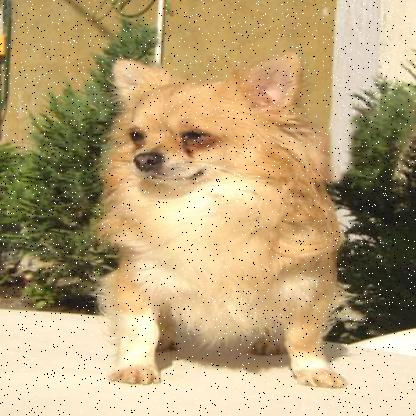dog: (88, 50, 366, 391)
